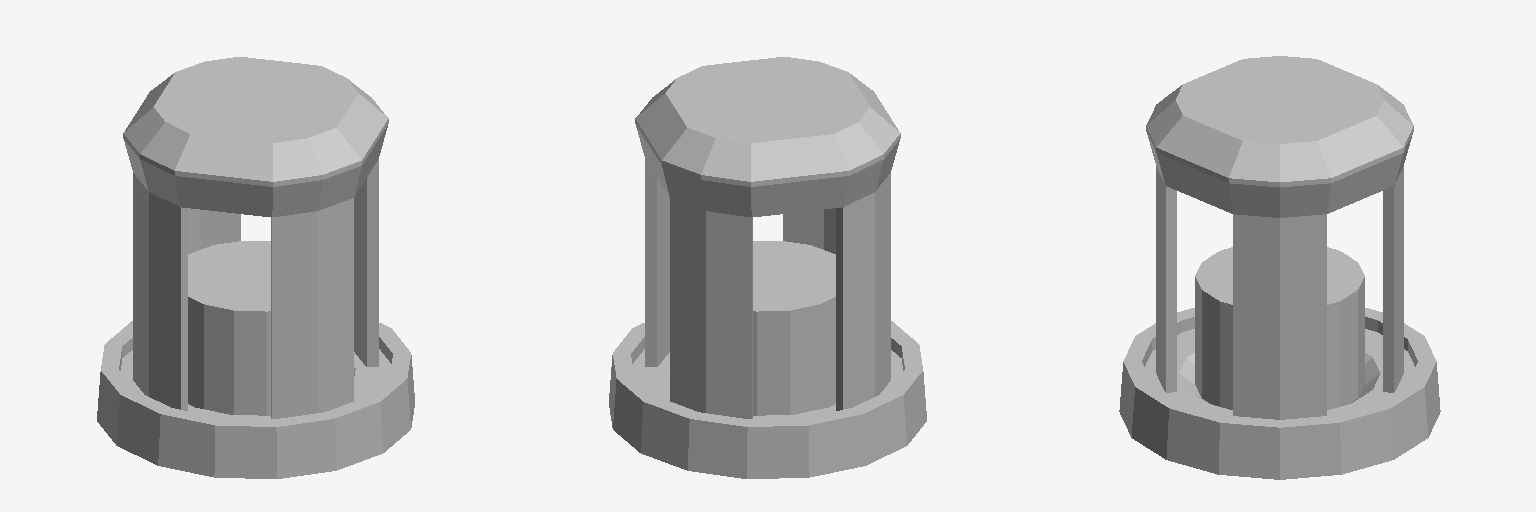
File: Tank_half.obj
The picture shows the model from 3 angles: view 1: azimuth 30°, elevation 25°; view 2: azimuth 150°, elevation 25°; view 3: azimuth 270°, elevation 25°; orthographic projection.
Parts seen in each view (by area): view 1: Circle; view 2: Circle; view 3: Circle.
Part boxes in pixels (x1,y1,x2,y2): Circle: (97, 57, 414, 478); Circle: (609, 57, 926, 478); Circle: (1119, 56, 1440, 479).
Size of the model in its own units: 1.06 by 1.13 by 1.06.